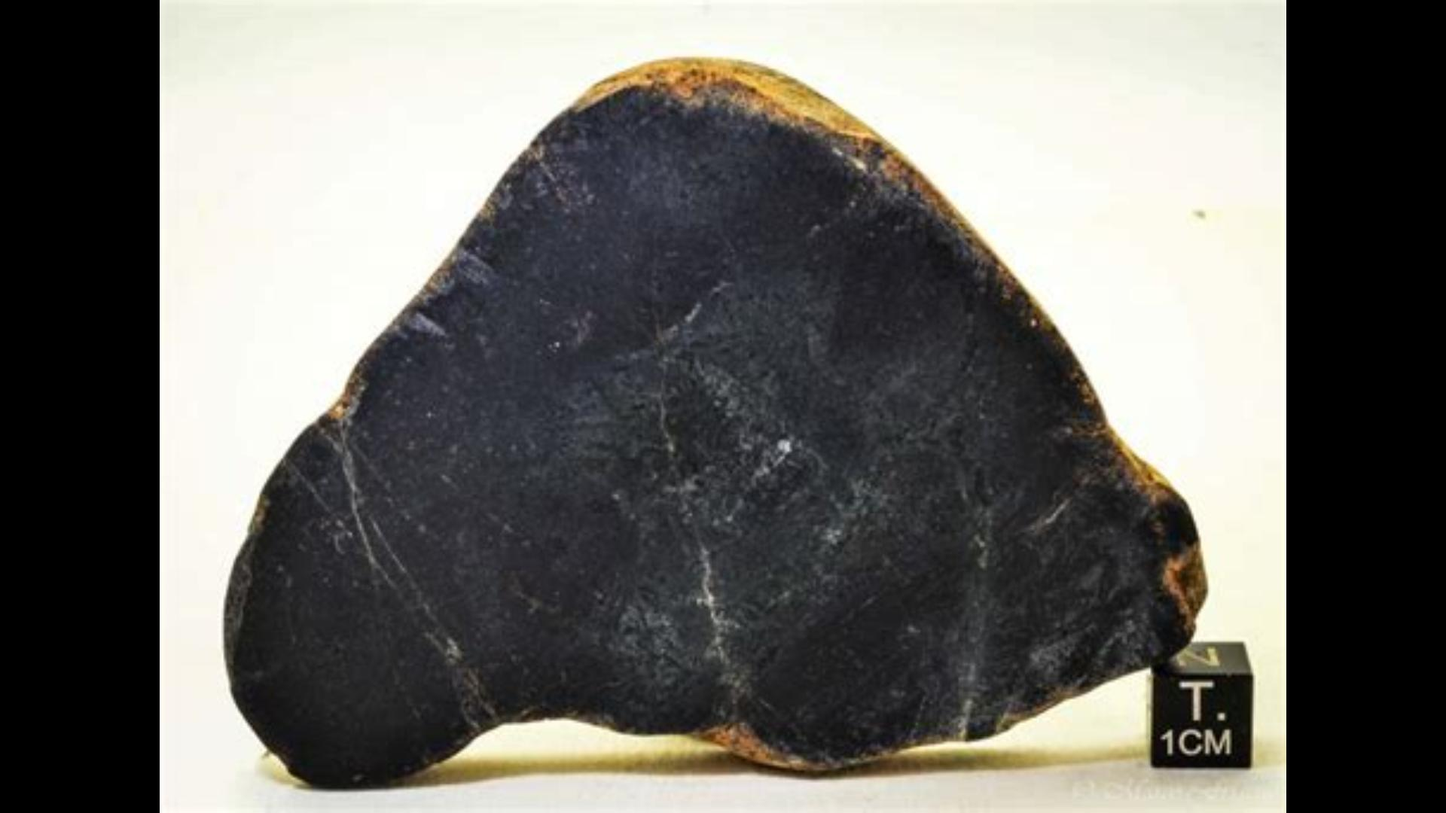rock: (226, 62, 1204, 782)
